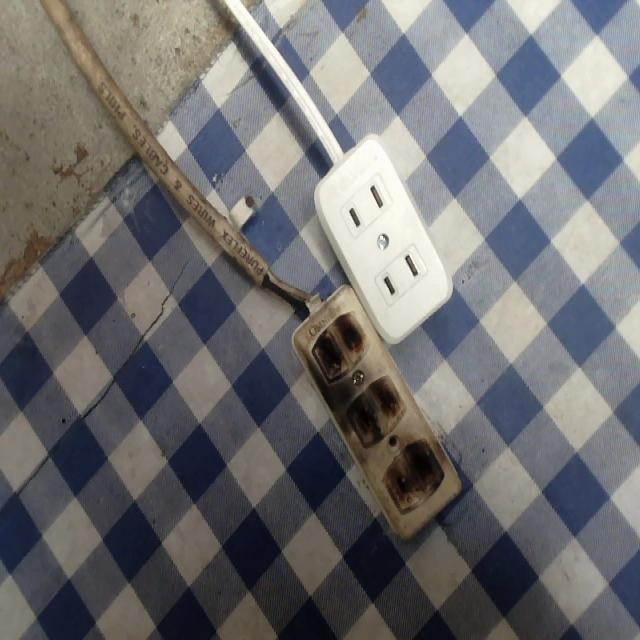-: (347, 375, 409, 449), (382, 443, 447, 513), (313, 307, 370, 373)
